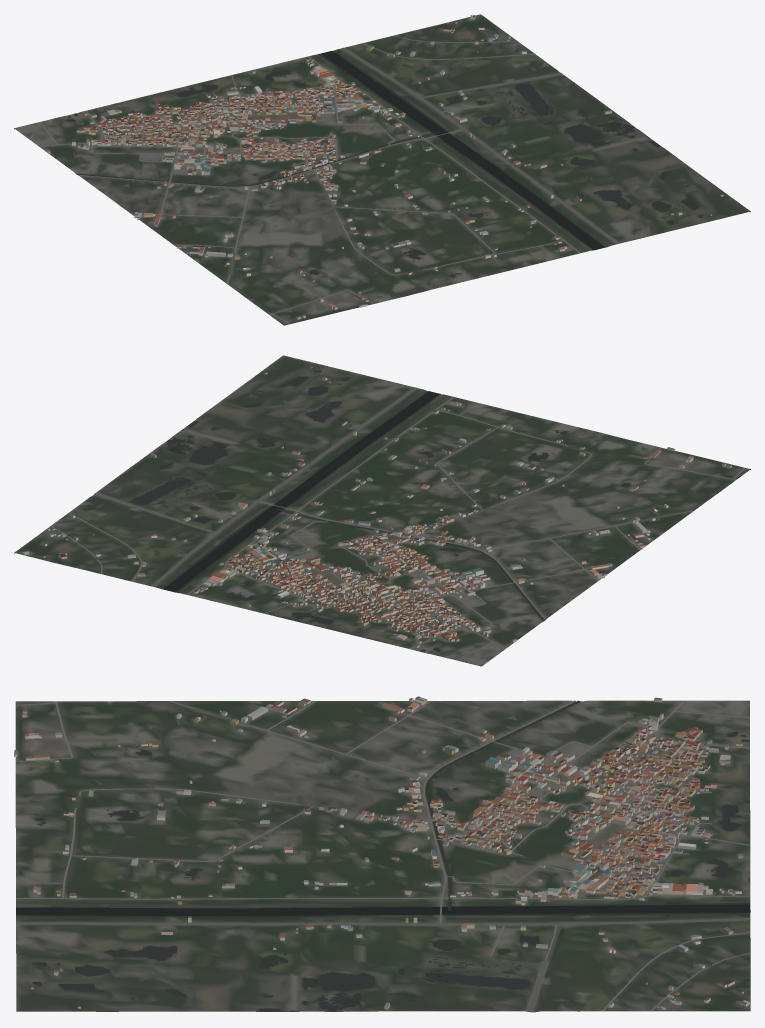
The picture shows the model from 3 angles, top to bottom: view 1: azimuth 30°, elevation 25°; view 2: azimuth 150°, elevation 25°; view 3: azimuth 270°, elevation 25°; orthographic projection. The views are drawn at different scales.
Visible parts, largest first — view 1: ground, buildings, water, roads; view 2: ground, buildings, water, roads; view 3: ground, buildings, water, roads.
Part boxes in pixels (x1,y1,x2,y2): ground: (14, 14, 750, 325); buildings: (47, 15, 723, 319); water: (65, 51, 703, 277); roads: (38, 35, 622, 324); ground: (14, 355, 750, 666); buildings: (22, 366, 731, 647); water: (94, 370, 631, 652); roads: (50, 387, 744, 660); ground: (15, 700, 750, 1012); buildings: (14, 696, 749, 1009); water: (16, 700, 750, 1011); roads: (15, 700, 750, 1011).
Size of the model in its own units: 1409 by 17.5 by 1407.
